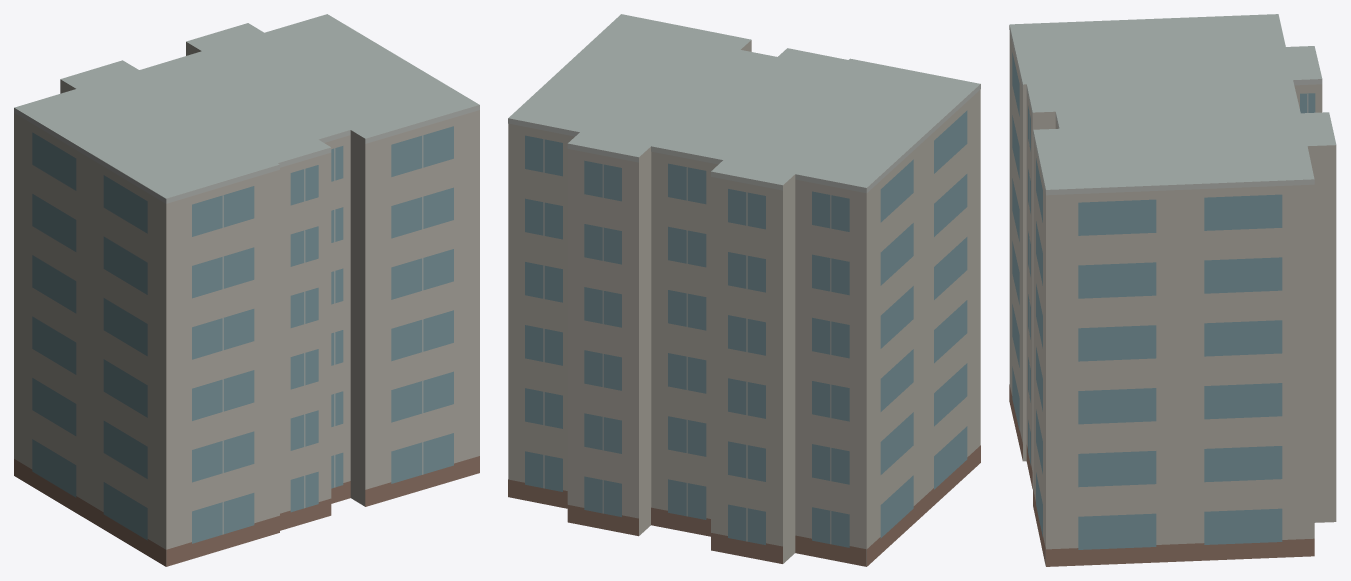
Rendered from survey-upis-32884523.glb.
3 renders of one model, left to right at view 1: azimuth 30°, elevation 25°; view 2: azimuth 150°, elevation 25°; view 3: azimuth 270°, elevation 25°, orthographic. The views are drawn at different scales.
Visible parts, largest first — view 1: survey-upis-32884523.tmp; view 2: survey-upis-32884523.tmp; view 3: survey-upis-32884523.tmp.
Part boxes in pixels (x1,y1,x2,y2): survey-upis-32884523.tmp: (14, 14, 479, 566); survey-upis-32884523.tmp: (508, 14, 980, 566); survey-upis-32884523.tmp: (1009, 14, 1336, 566).
Bounding box in the file's own units: 17.43 × 17.4 × 13.69.
